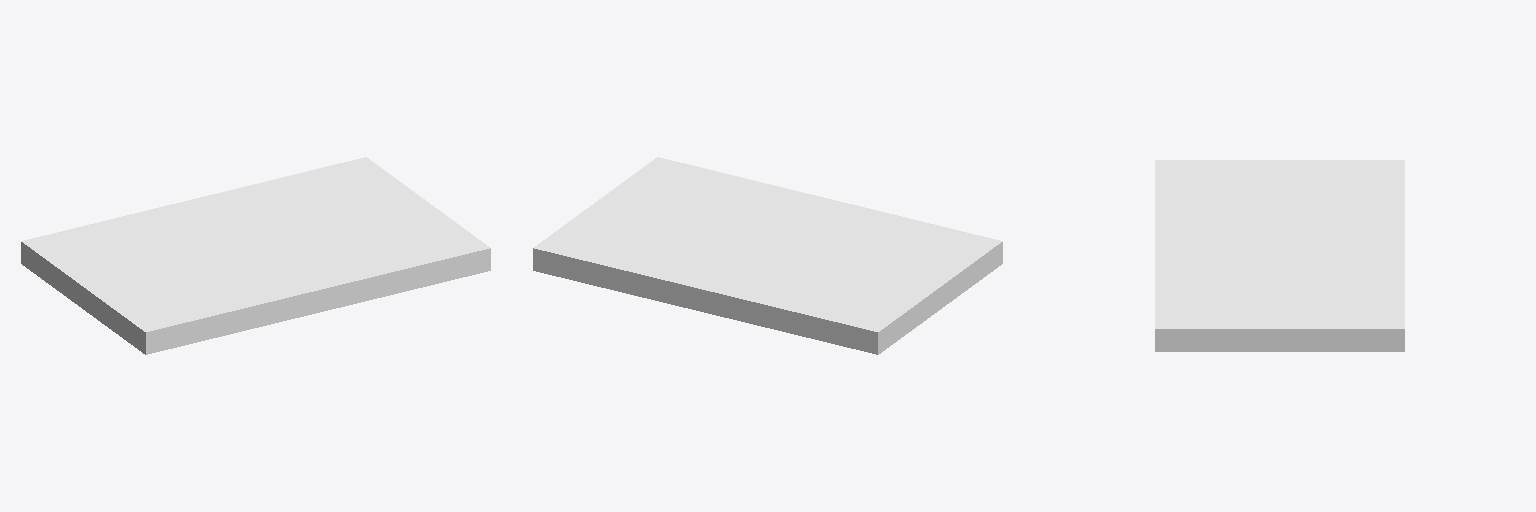
File: book_2.obj
3 renders of one model, left to right at view 1: azimuth 30°, elevation 25°; view 2: azimuth 150°, elevation 25°; view 3: azimuth 270°, elevation 25°, orthographic.
Parts seen in each view (by area): view 1: object 1; view 2: object 1; view 3: object 1.
Part boxes in pixels (x1,y1,x2,y2): object 1: (21, 157, 490, 354); object 1: (533, 157, 1002, 354); object 1: (1155, 160, 1404, 351).
Bounding box in the file's own units: 1.6 × 0.1 × 1.